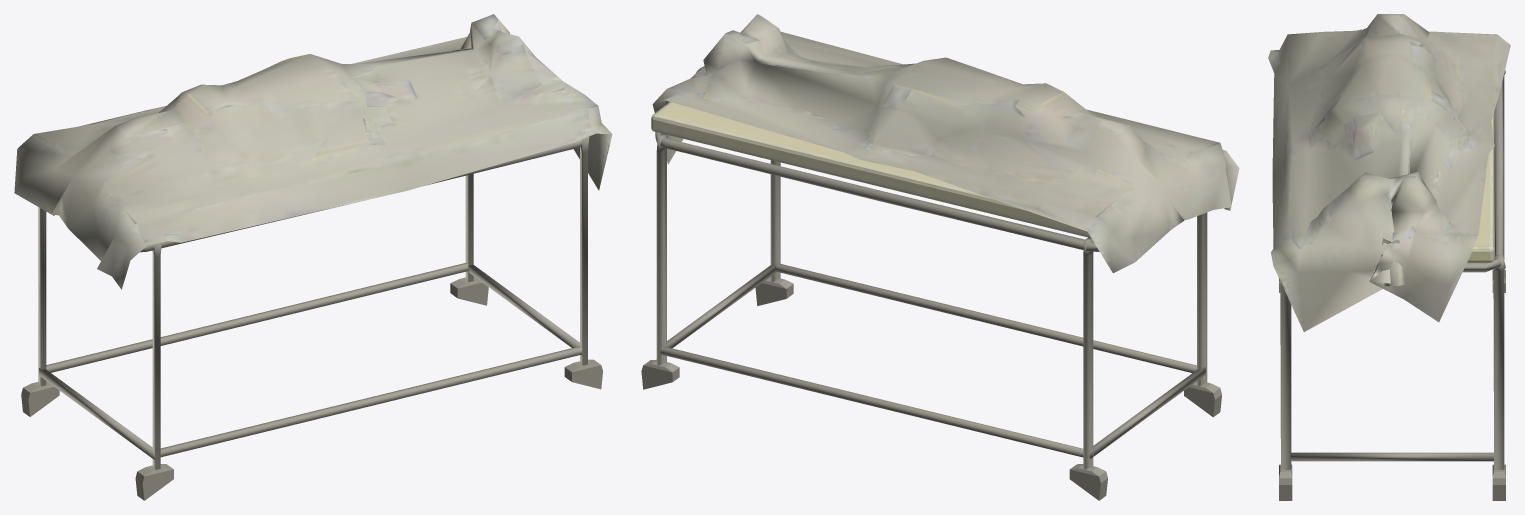
Rendered from hosp-stretcher.lod1.glb.
3 views of the same model, side by side, from view 1: azimuth 30°, elevation 25°; view 2: azimuth 150°, elevation 25°; view 3: azimuth 270°, elevation 25° (orthographic). The views are drawn at different scales.
Parts seen in each view (by area): view 1: Maca_Colchao_0, Maca_MetalEscuro_0; view 2: Maca_Colchao_0, Maca_MetalEscuro_0; view 3: Maca_Colchao_0, Maca_MetalEscuro_0.
Part boxes in pixels (bbox=[...]): Maca_Colchao_0: bbox=[14, 14, 612, 289]; Maca_MetalEscuro_0: bbox=[21, 136, 602, 500]; Maca_Colchao_0: bbox=[651, 14, 1239, 273]; Maca_MetalEscuro_0: bbox=[641, 132, 1221, 500]; Maca_Colchao_0: bbox=[1268, 14, 1510, 331]; Maca_MetalEscuro_0: bbox=[1279, 70, 1505, 500].
Size of the model in its own units: 2.15 by 1.35 by 0.9531.
2 materials, 1 textured.
